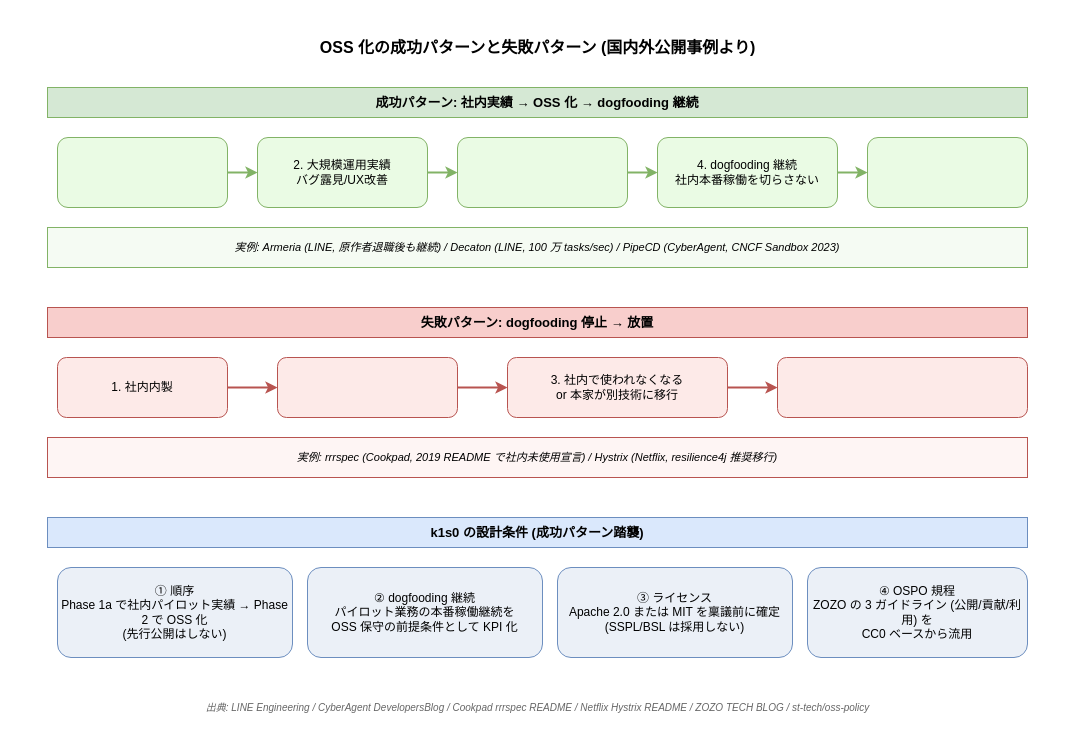
Some shapes in this 1074 by 754 pixel diagram are drawn without their labels. Each missing label, with the centre of its shape:
1. 社内内製 実ユースで運用: the point at 142,172
2. OSS 化 外部採用拡大: the point at 367,387
3. OSS 化 社内決裁・ライセンス確定: the point at 542,172
4. 放置・メンテ停止 エコシステム崩壊: the point at 902,387
5. 属人性剥がし 外部採用拡大: the point at 947,172
